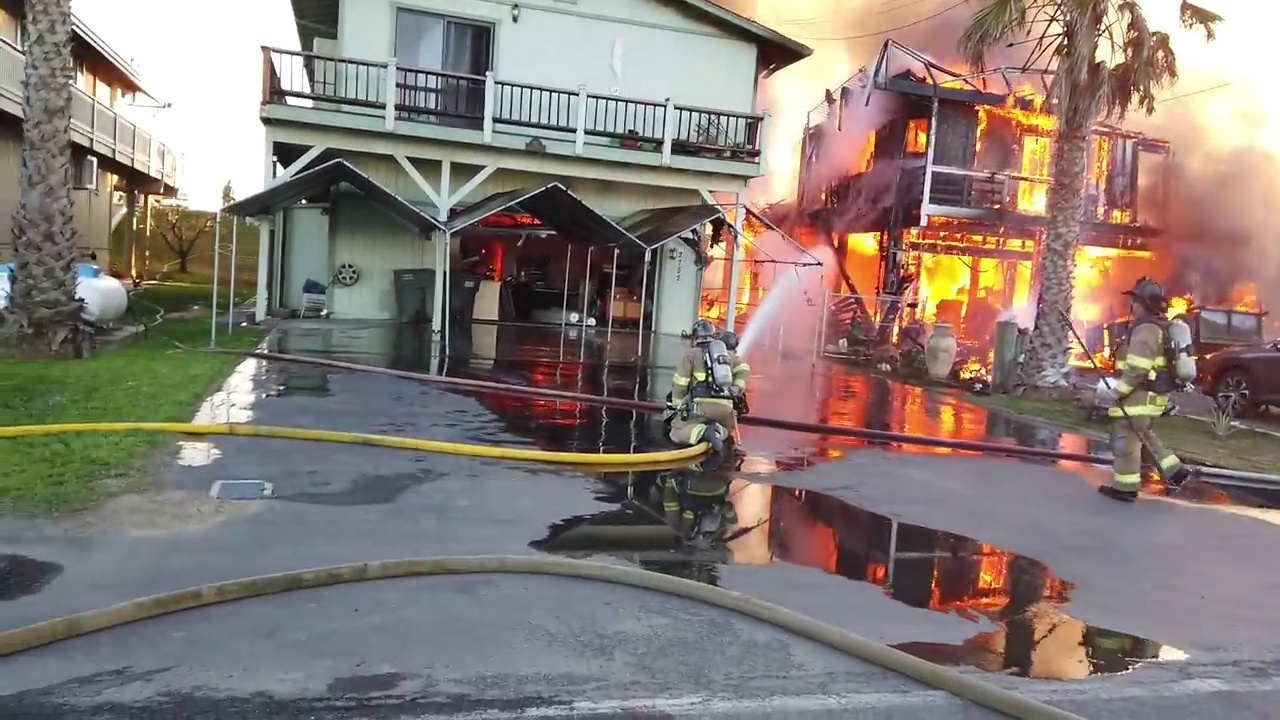fire: (917, 232, 1130, 327), (1005, 94, 1130, 223), (833, 234, 889, 355), (695, 220, 765, 315), (935, 64, 993, 90), (1228, 280, 1259, 311), (487, 241, 507, 278), (906, 117, 927, 152)
smoke: (1132, 1, 1280, 294), (851, 3, 1057, 99), (793, 81, 888, 193), (787, 3, 852, 79), (755, 79, 791, 201)
